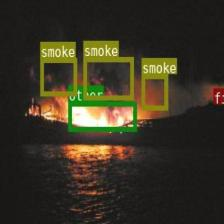fire: (212, 88, 224, 97)
smoke: (83, 57, 133, 99), (40, 57, 76, 95), (141, 73, 167, 109)
